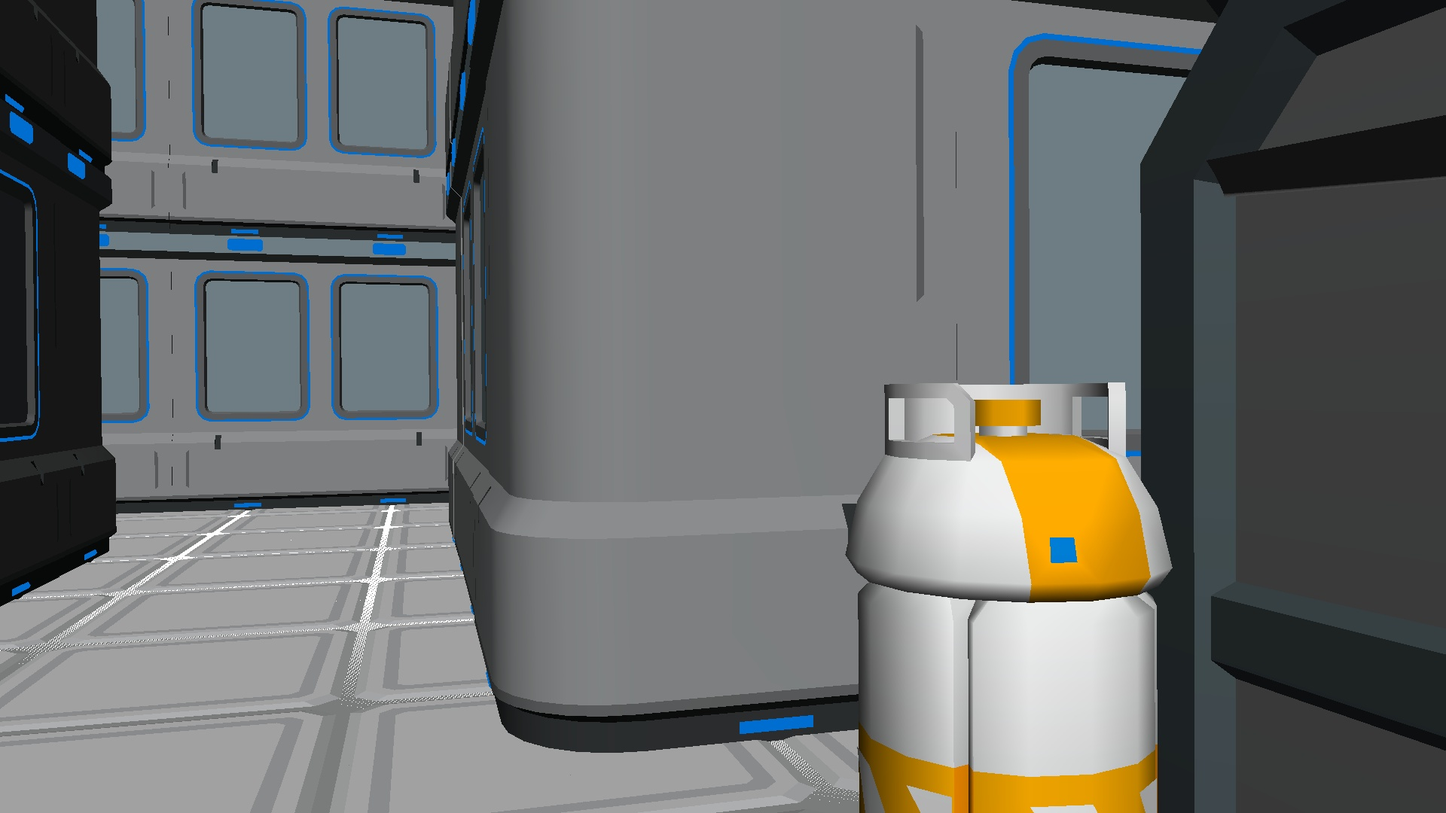yellow barrel: (841, 382, 1174, 813)
